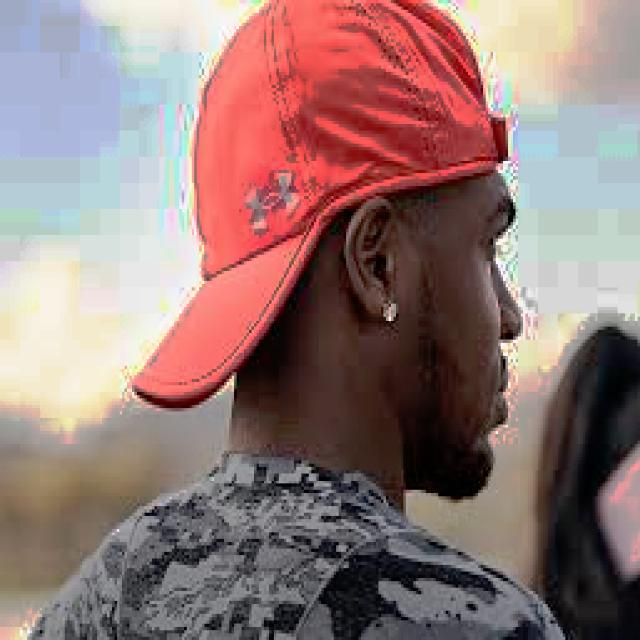TOPI: (124, 0, 506, 405)
